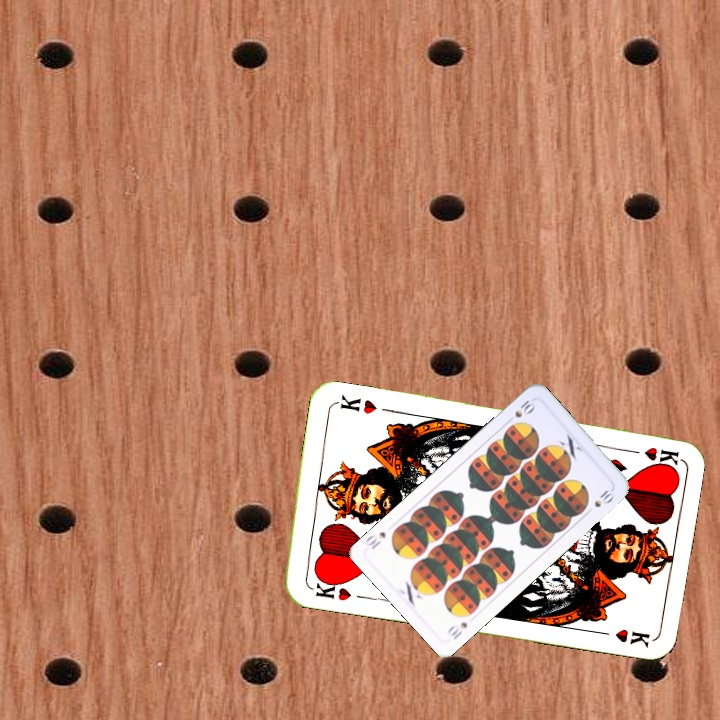HK: (620, 443, 680, 467), (311, 573, 354, 604)
S10: (510, 395, 538, 420), (443, 618, 470, 642)
